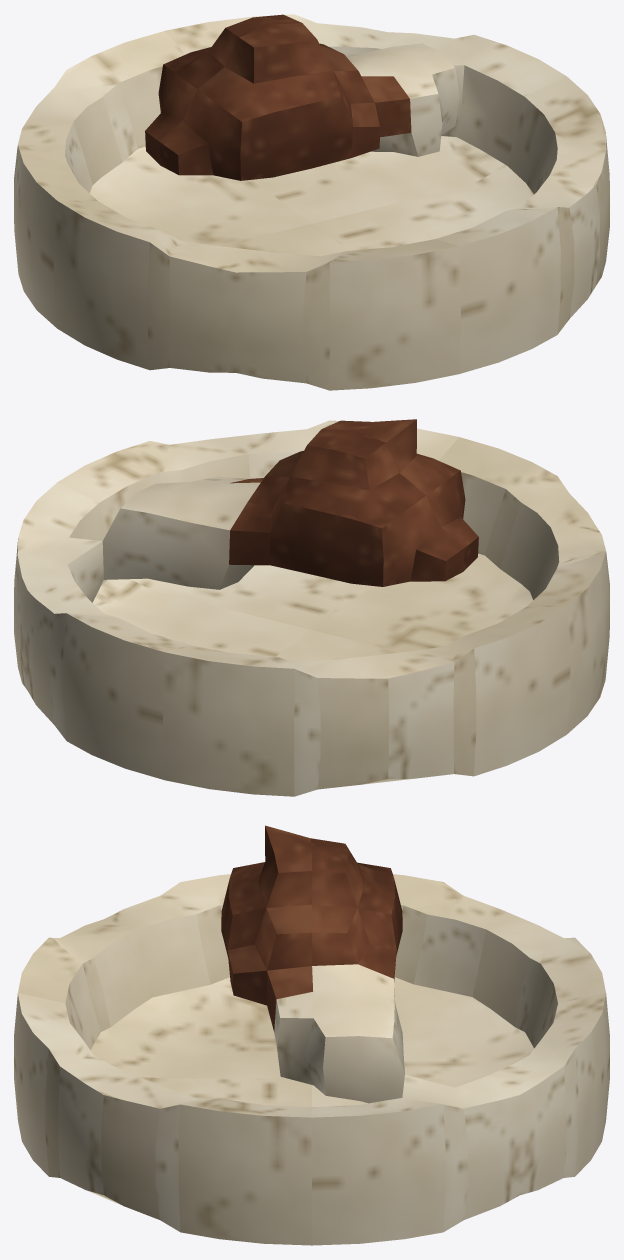
The model's file is prop_meal.glb.
3 renders of one model, top to bottom at view 1: azimuth 30°, elevation 25°; view 2: azimuth 150°, elevation 25°; view 3: azimuth 270°, elevation 25°, orthographic.
Visible parts, largest first — view 1: town_prop_meal; view 2: town_prop_meal; view 3: town_prop_meal.
Boxes of the visible parts, x1,y1,x2,y2 form: town_prop_meal: [14, 14, 609, 390]; town_prop_meal: [14, 419, 609, 796]; town_prop_meal: [14, 825, 609, 1245].
Bounding box in the file's own units: 0.2637 × 0.125 × 0.2637.
1 material, 1 textured.
